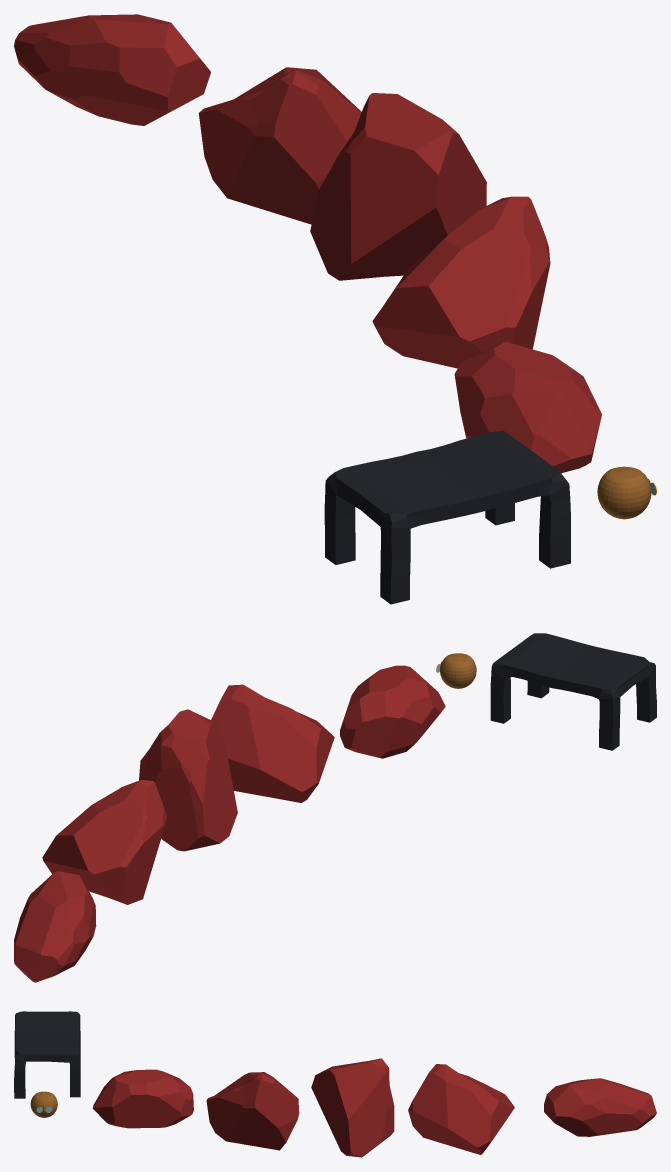
Rendered from Expo6.fbx.
3 renders of one model, top to bottom at view 1: azimuth 30°, elevation 25°; view 2: azimuth 150°, elevation 25°; view 3: azimuth 270°, elevation 25°, orthographic. The views are drawn at different scales.
Visible parts, largest first — view 1: Sphere.004, Tisch-END.001, Sphere, Sphere.003, Sphere.002, Sphere.001, Brille; view 2: Tisch-END.001, Sphere.003, Sphere, Sphere.004, Sphere.001, Sphere.002, Brille; view 3: Sphere.003, Sphere.004, Sphere, Sphere.002, Sphere.001, Tisch-END.001, Brille.
Boxes of the visible parts, x1,y1,x2,y2 form: Sphere.004: (310,93,486,280); Tisch-END.001: (324,430,570,604); Sphere: (372,196,550,368); Sphere.003: (198,67,361,224); Sphere.002: (14,14,210,125); Sphere.001: (454,341,601,473); Brille: (597,466,656,519); Tisch-END.001: (490,633,656,750); Sphere.003: (42,780,166,904); Sphere: (211,684,334,802); Sphere.004: (139,709,237,851); Sphere.001: (340,665,445,758); Sphere.002: (14,871,96,982); Brille: (436,653,476,688); Sphere.003: (408,1064,514,1154); Sphere.004: (311,1058,394,1157); Sphere: (206,1072,299,1150); Sphere.002: (544,1078,656,1136); Sphere.001: (92,1069,193,1128); Tisch-END.001: (14,1011,80,1098); Brille: (30,1091,57,1117).
Bounding box in the file's own units: 861 × 314 × 2184.
